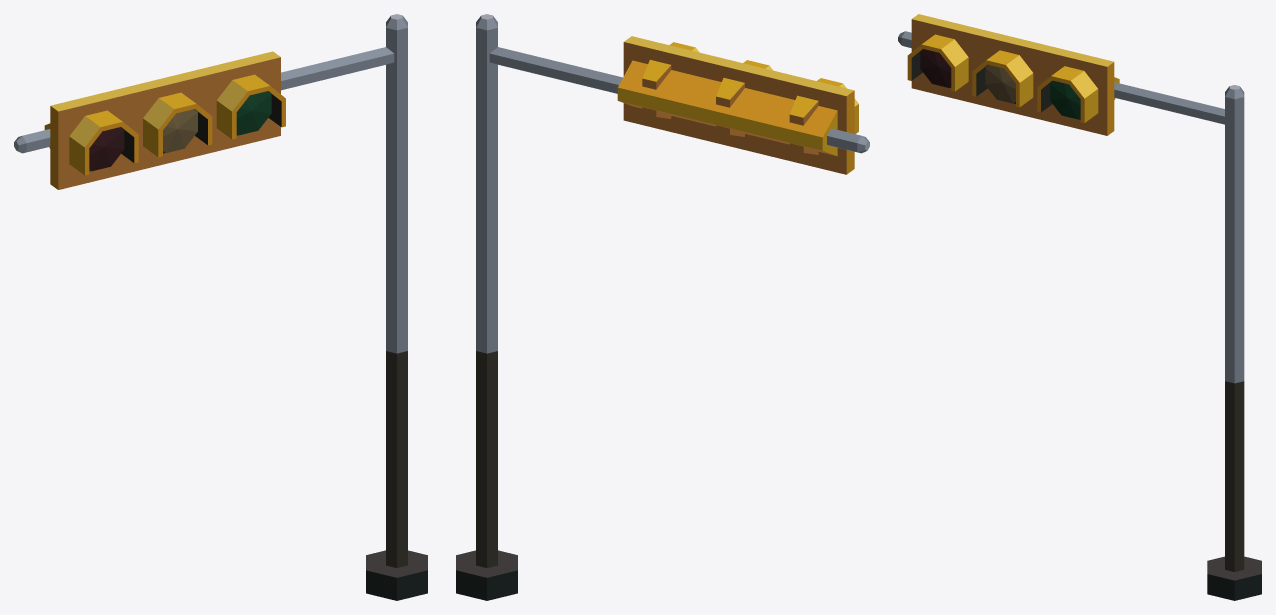
Rendered from TB_CITY_Prop_TrafficLight_VSet_Yellow.FBX.
3 renders of one model, left to right at view 1: azimuth 30°, elevation 25°; view 2: azimuth 150°, elevation 25°; view 3: azimuth 330°, elevation 25°, orthographic. The views are drawn at different scales.
Visible parts, largest first — view 1: TB_CITY_Prop_TrafficLight_VSet_Yellow; view 2: TB_CITY_Prop_TrafficLight_VSet_Yellow; view 3: TB_CITY_Prop_TrafficLight_VSet_Yellow.
Boxes of the visible parts, x1,y1,x2,y2 form: TB_CITY_Prop_TrafficLight_VSet_Yellow: [14, 14, 427, 600]; TB_CITY_Prop_TrafficLight_VSet_Yellow: [456, 14, 869, 600]; TB_CITY_Prop_TrafficLight_VSet_Yellow: [898, 14, 1261, 600].
Bounding box in the file's own units: 5.62 × 7.45 × 1.07.
